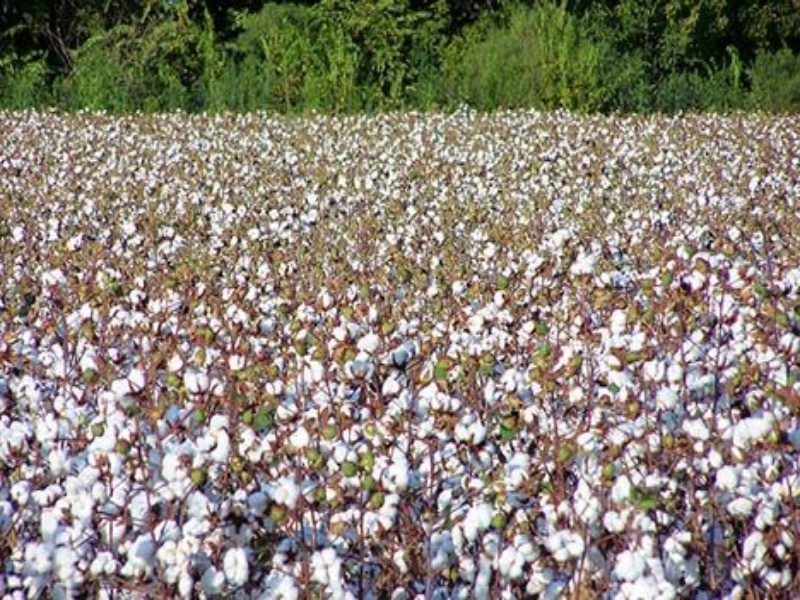cotton: (1, 114, 798, 598)
